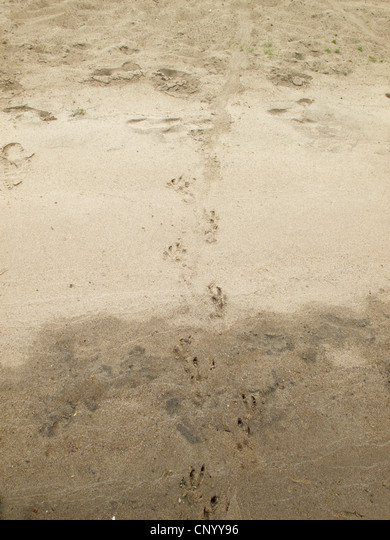beaver: (178, 463, 207, 511), (163, 240, 191, 268), (165, 176, 196, 195)
